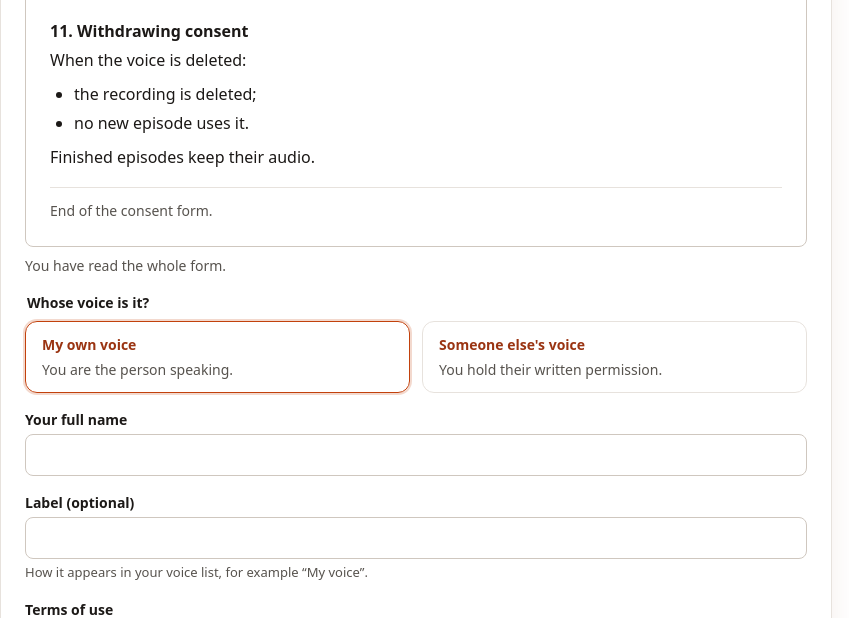
Test case: adding a voice › asks where the written permission is kept for someone else's voice
(page scrolled)
Click the radio button labelled "Someone else's voice You hold their written permission.".
click(512, 345)  # box [422,321,807,393]
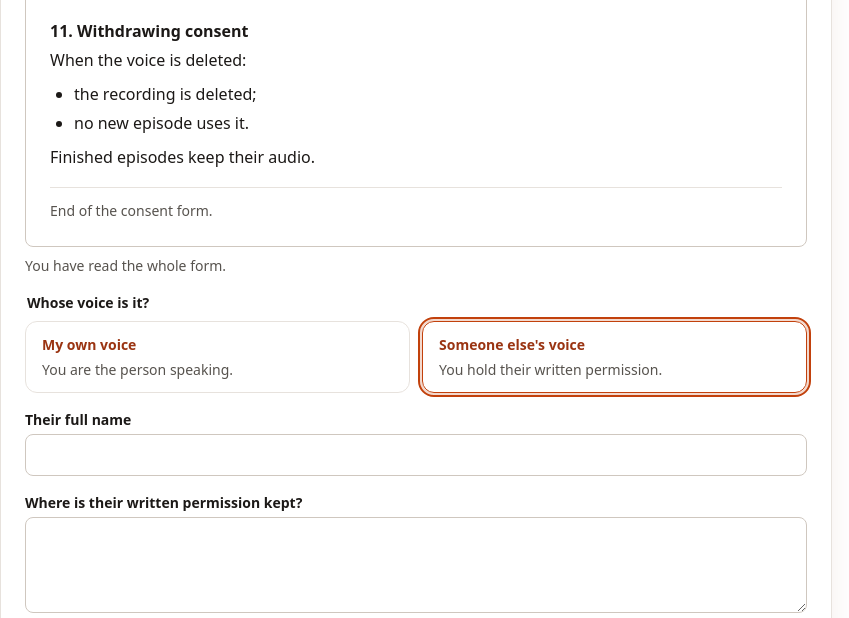
Expected: the field labelled "Their full name" is shown, [25,434,807,476]
Expected: the text box labelled "Where is their written permission kept?" is shown, [25,517,807,613]
